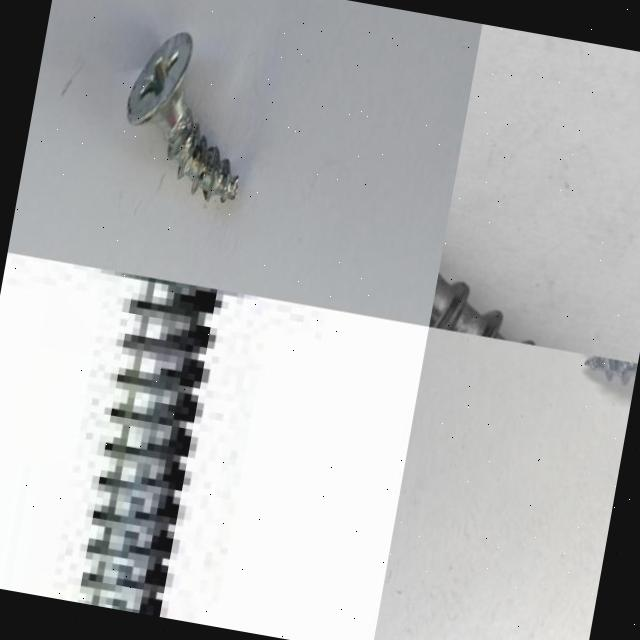Screw: (428, 66, 640, 363), (77, 266, 229, 617), (127, 31, 239, 202)
